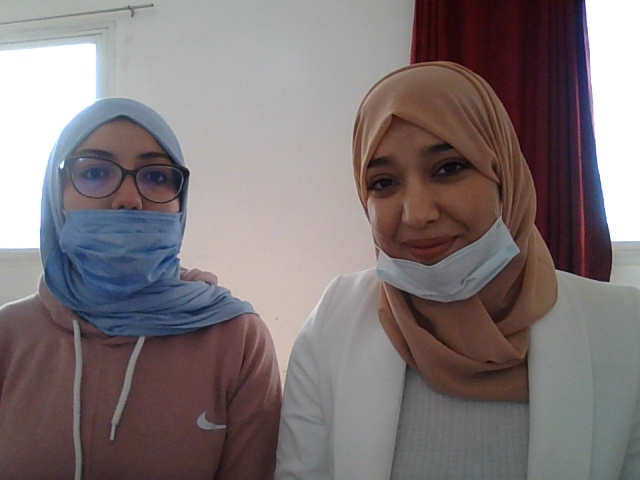mask_weared_incorrect: (316, 72, 532, 317), (37, 96, 215, 297)
